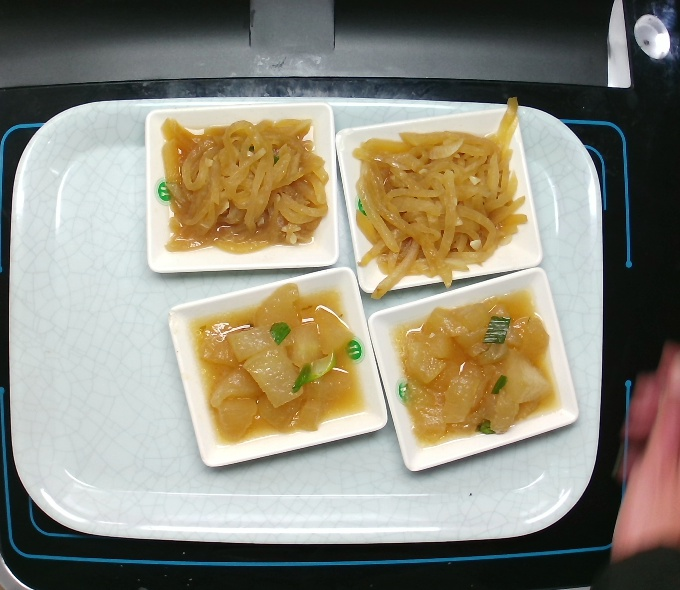wcq-DongGua: (190, 281, 367, 447), (388, 286, 561, 448)
wcq-LuoBoSi: (351, 94, 530, 304), (153, 111, 332, 256)
